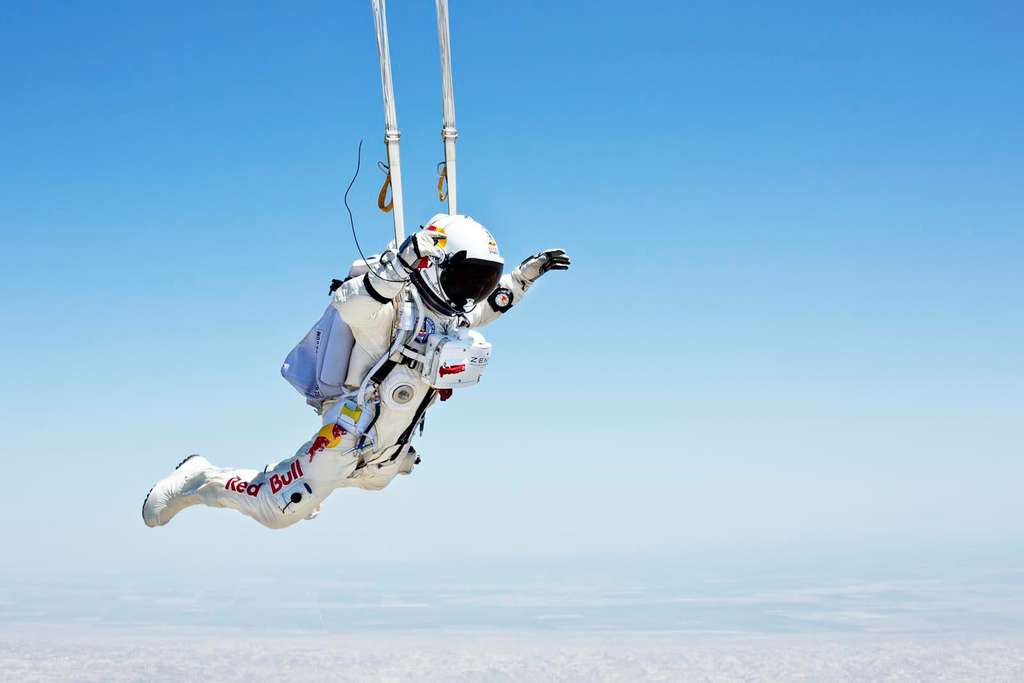Person: (142, 213, 571, 529)
